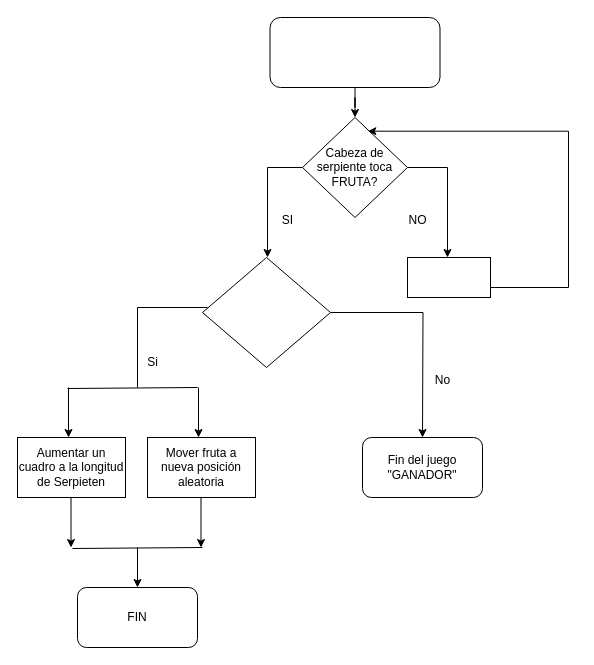
Image size: 594x665. Some labels were removed from this diagram. The box of each missing label's shape, as (x1, y1, x2, y2) in pixels:
Hay espacio para Nueva FRUTA ?: (202, 256, 330, 368)
Inicio: (269, 16, 440, 88)
Sin accion: (406, 256, 490, 298)
